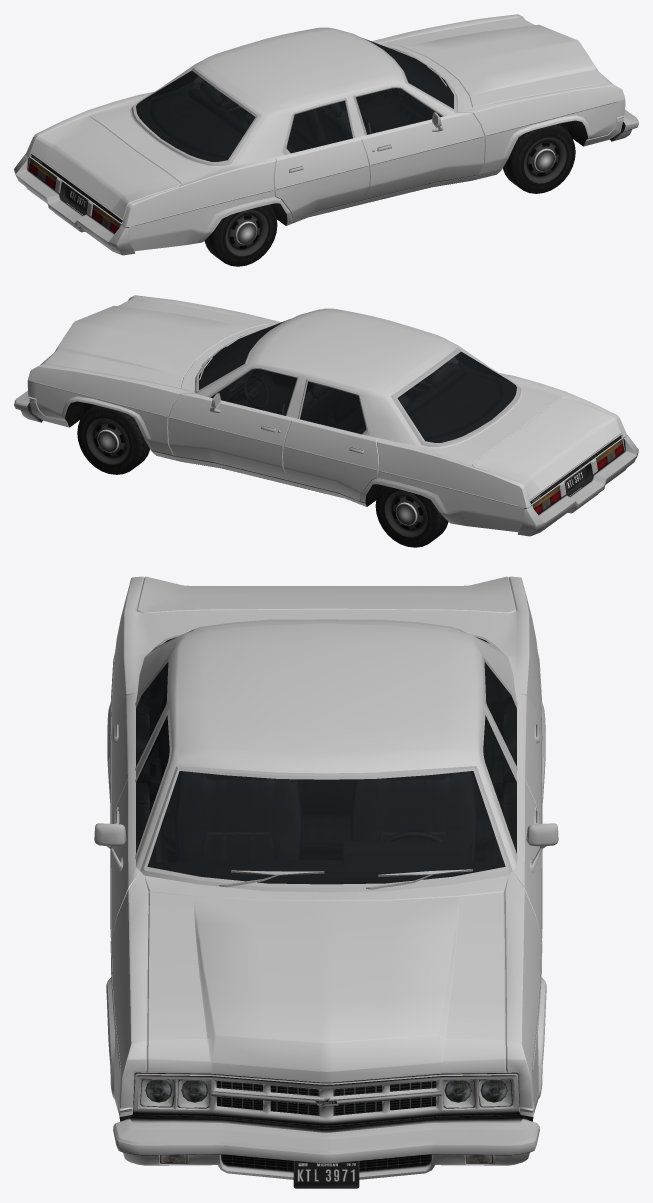
File: Chapman73.fbx
3 views of the same model, one above another, from view 1: azimuth 30°, elevation 25°; view 2: azimuth 150°, elevation 25°; view 3: azimuth 270°, elevation 25° (orthographic). The views are drawn at different scales.
Parts seen in each view (by area): view 1: Chapman73_Body, Chapman73_Interior, Chapman73_Hood, Chapman73_Trunk_Door, Chapman73_Bottom, Chapman73_Glass_Rear, Chapman73_WheelStock_FR, Chapman73_WheelStock_RR, Chapman73_Bumper_Rear, Chapman73_Glass_Passenger, Chapman73_Glass_Body, Chapman73_Windshield (+1 smaller); view 2: Chapman73_Body, Chapman73_Interior, Chapman73_Hood, Chapman73_Trunk_Door, Chapman73_Bottom, Chapman73_Glass_Rear, Chapman73_WheelStock_FL, Chapman73_WheelStock_RL, Chapman73_Bumper_Rear, Chapman73_Glass_Driver, Chapman73_Glass_Body, Chapman73_Windshield (+1 smaller); view 3: Chapman73_Body, Chapman73_Hood, Chapman73_Interior, Chapman73_Windshield, Chapman73_Bottom, Chapman73_Bumper_Front, Chapman73_Trunk_Door, Chapman73_Glass_Body, Chapman73_Headlights, Chapman73_Glass_Driver, Chapman73_Glass_Passenger, Chapman73_Numberplate_Front.
Part boxes in pixels (x1=…): Chapman73_Body: x1=26, y1=14, x2=625, y2=251; Chapman73_Interior: x1=136, y1=47, x2=453, y2=161; Chapman73_Hood: x1=384, y1=17, x2=612, y2=107; Chapman73_Trunk_Door: x1=31, y1=117, x2=180, y2=219; Chapman73_Bottom: x1=28, y1=28, x2=617, y2=233; Chapman73_Glass_Rear: x1=136, y1=70, x2=255, y2=161; Chapman73_WheelStock_FR: x1=503, y1=124, x2=575, y2=193; Chapman73_WheelStock_RR: x1=204, y1=204, x2=277, y2=266; Chapman73_Bumper_Rear: x1=14, y1=154, x2=135, y2=255; Chapman73_Glass_Passenger: x1=356, y1=88, x2=442, y2=134; Chapman73_Glass_Body: x1=194, y1=76, x2=352, y2=153; Chapman73_Windshield: x1=363, y1=38, x2=453, y2=108; Chapman73_Body: x1=27, y1=295, x2=626, y2=532; Chapman73_Interior: x1=199, y1=328, x2=516, y2=442; Chapman73_Hood: x1=40, y1=298, x2=268, y2=388; Chapman73_Trunk_Door: x1=472, y1=398, x2=621, y2=500; Chapman73_Bottom: x1=35, y1=309, x2=624, y2=514; Chapman73_Glass_Rear: x1=397, y1=351, x2=516, y2=442; Chapman73_WheelStock_FL: x1=77, y1=405, x2=149, y2=474; Chapman73_WheelStock_RL: x1=375, y1=485, x2=448, y2=547; Chapman73_Bumper_Rear: x1=517, y1=435, x2=638, y2=536; Chapman73_Glass_Driver: x1=210, y1=369, x2=296, y2=415; Chapman73_Glass_Body: x1=300, y1=357, x2=458, y2=434; Chapman73_Windshield: x1=199, y1=319, x2=289, y2=389; Chapman73_Body: x1=106, y1=576, x2=546, y2=1116; Chapman73_Hood: x1=146, y1=892, x2=506, y2=1082; Chapman73_Interior: x1=136, y1=638, x2=516, y2=883; Chapman73_Windshield: x1=147, y1=771, x2=505, y2=884; Chapman73_Bottom: x1=94, y1=619, x2=558, y2=1128; Chapman73_Bumper_Front: x1=113, y1=1117, x2=539, y2=1179; Chapman73_Trunk_Door: x1=137, y1=576, x2=515, y2=613; Chapman73_Glass_Body: x1=136, y1=662, x2=516, y2=766; Chapman73_Headlights: x1=145, y1=1079, x2=507, y2=1102; Chapman73_Glass_Driver: x1=483, y1=715, x2=516, y2=853; Chapman73_Glass_Passenger: x1=136, y1=715, x2=169, y2=853; Chapman73_Numberplate_Front: x1=293, y1=1161, x2=359, y2=1188.
Size of the model in its own units: 5.67 by 1.42 by 2.12.
